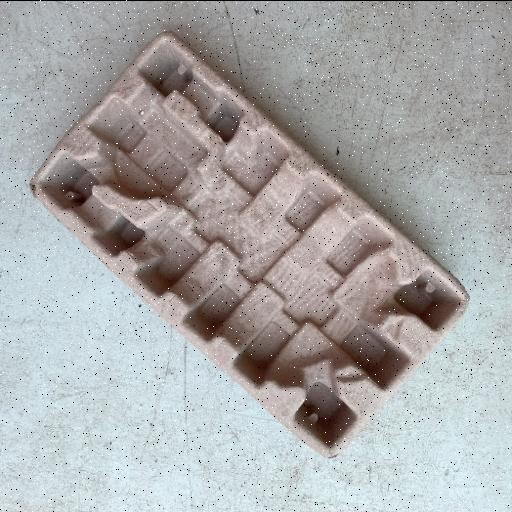Cardboard: (28, 30, 470, 460)
